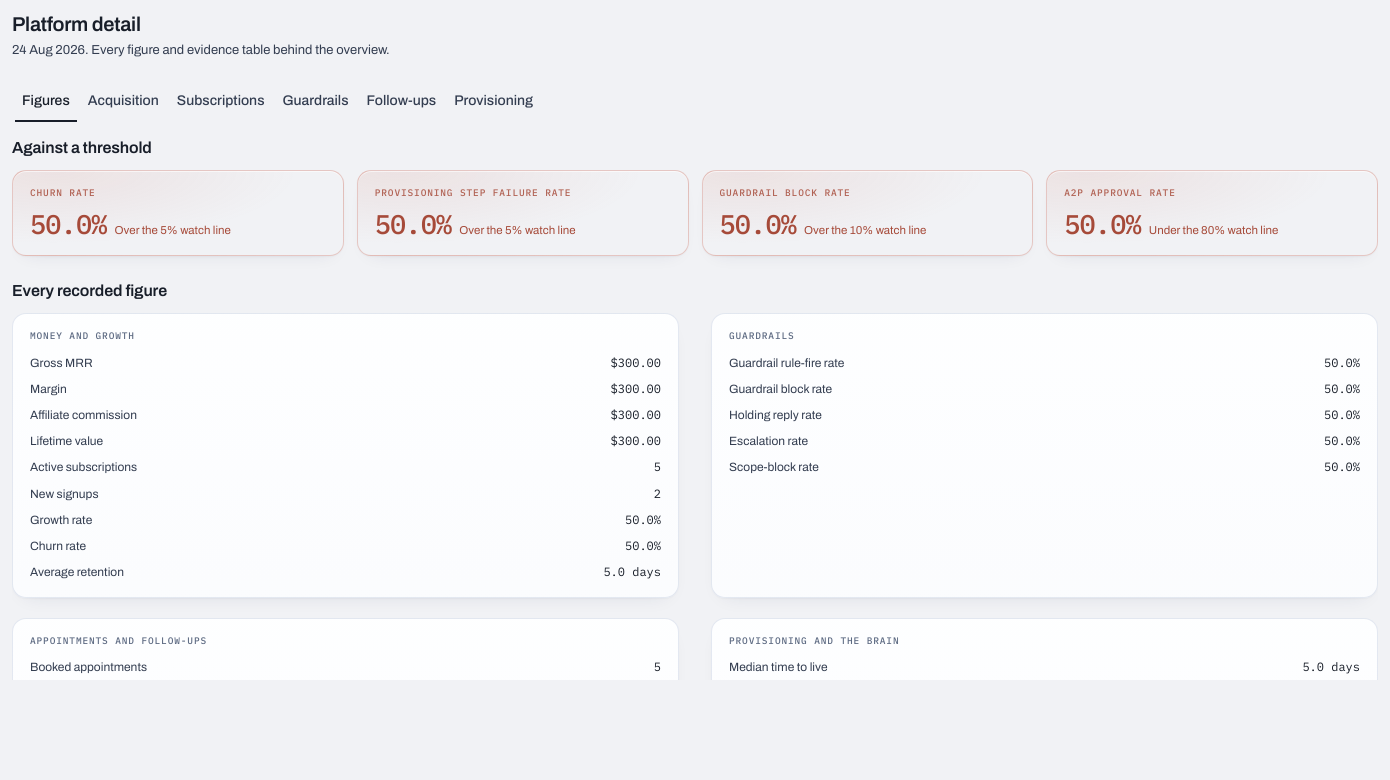
AdminPlatformDetailSurface › renders the show rate as absent when attendance is not recorded
Step 1. Click the tab "Acquisition" → (123, 100), box [81, 88, 166, 113]
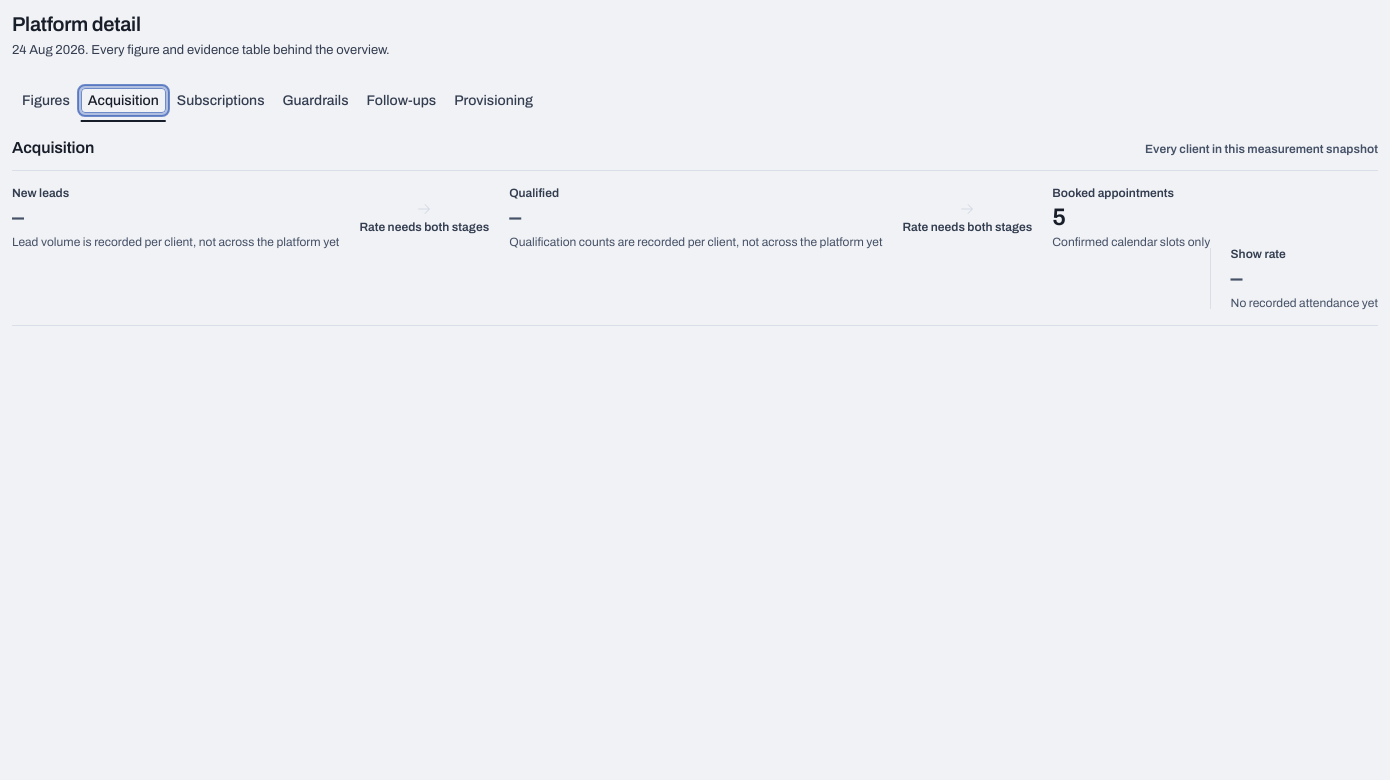
Expected: the text "–" below "Show rate" is shown, [1231, 265, 1242, 291]
